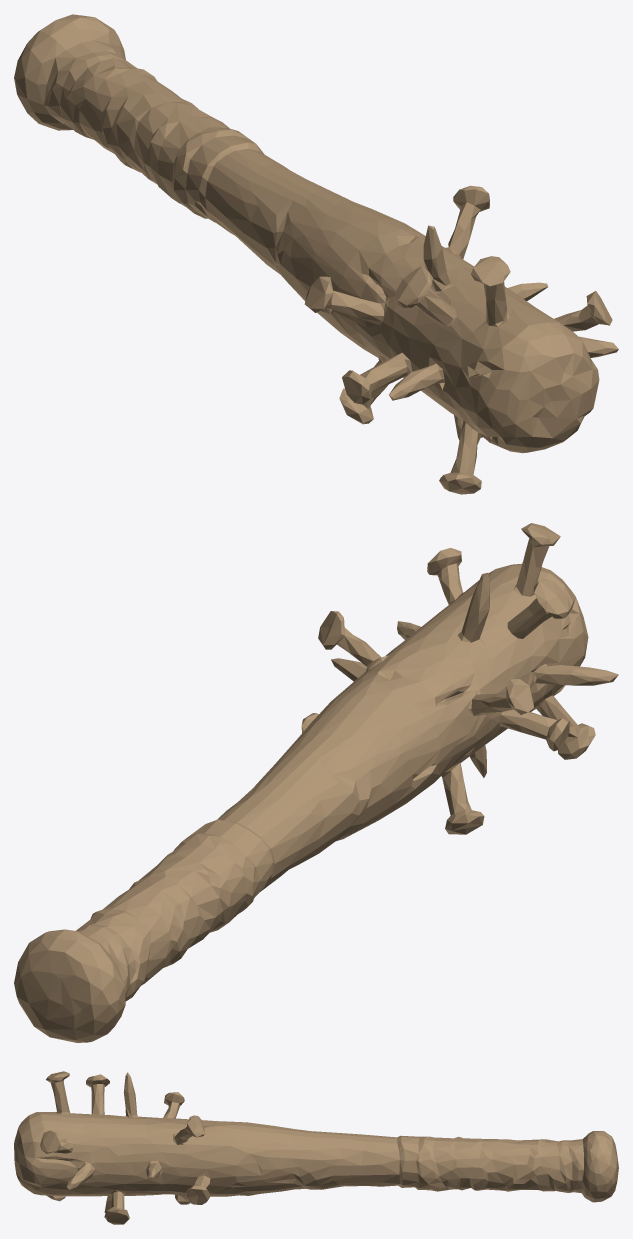
The model's file is baseball-bat.glb.
3 renders of one model, top to bottom at view 1: azimuth 30°, elevation 25°; view 2: azimuth 150°, elevation 25°; view 3: azimuth 270°, elevation 25°, orthographic. The views are drawn at different scales.
Visible parts, largest first — view 1: world; view 2: world; view 3: world.
Part boxes in pixels (<box>): world: <box>14,14,618,494</box>; world: <box>14,523,618,1042</box>; world: <box>14,1071,618,1224</box>.
Bounding box in the file's own units: 0.1953 × 0.1906 × 0.75.
